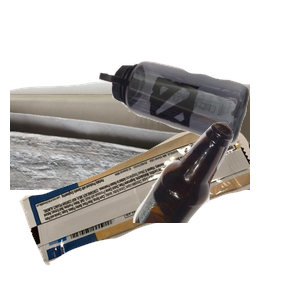glass: (130, 120, 300, 300)
paper: (10, 77, 250, 257)
plastic: (97, 59, 300, 197)
trash: (17, 123, 257, 300)
